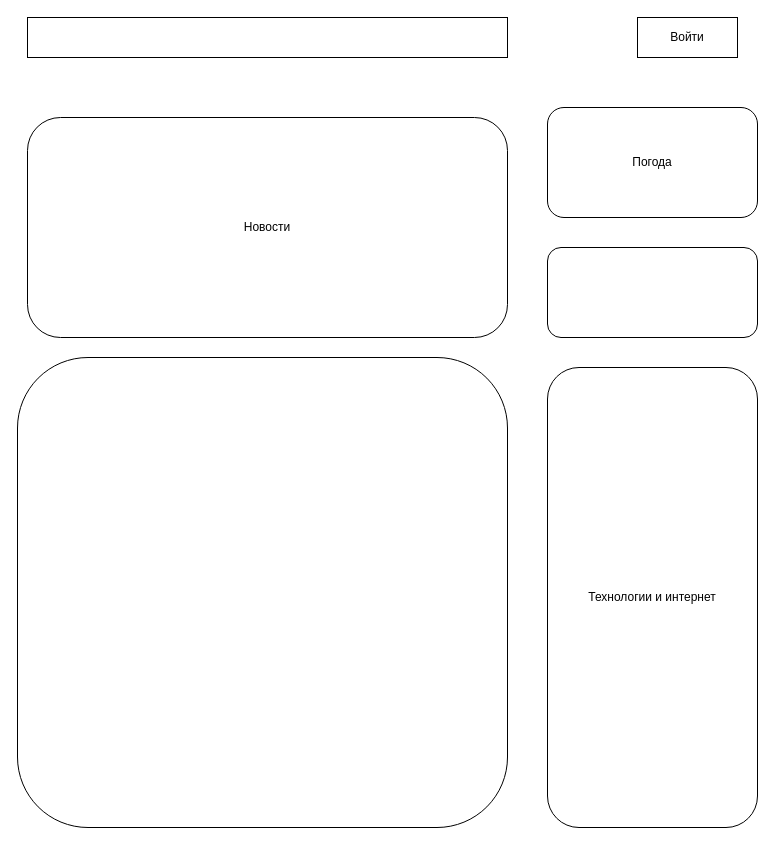
The diagram is 775 pixels wide and 845 high, and some of its shapes have lost their labels. Each missing label, with the centre of its shape:
"Курсы валют" belongs at point (652, 292).
"Поисковая строка" belongs at point (267, 37).
